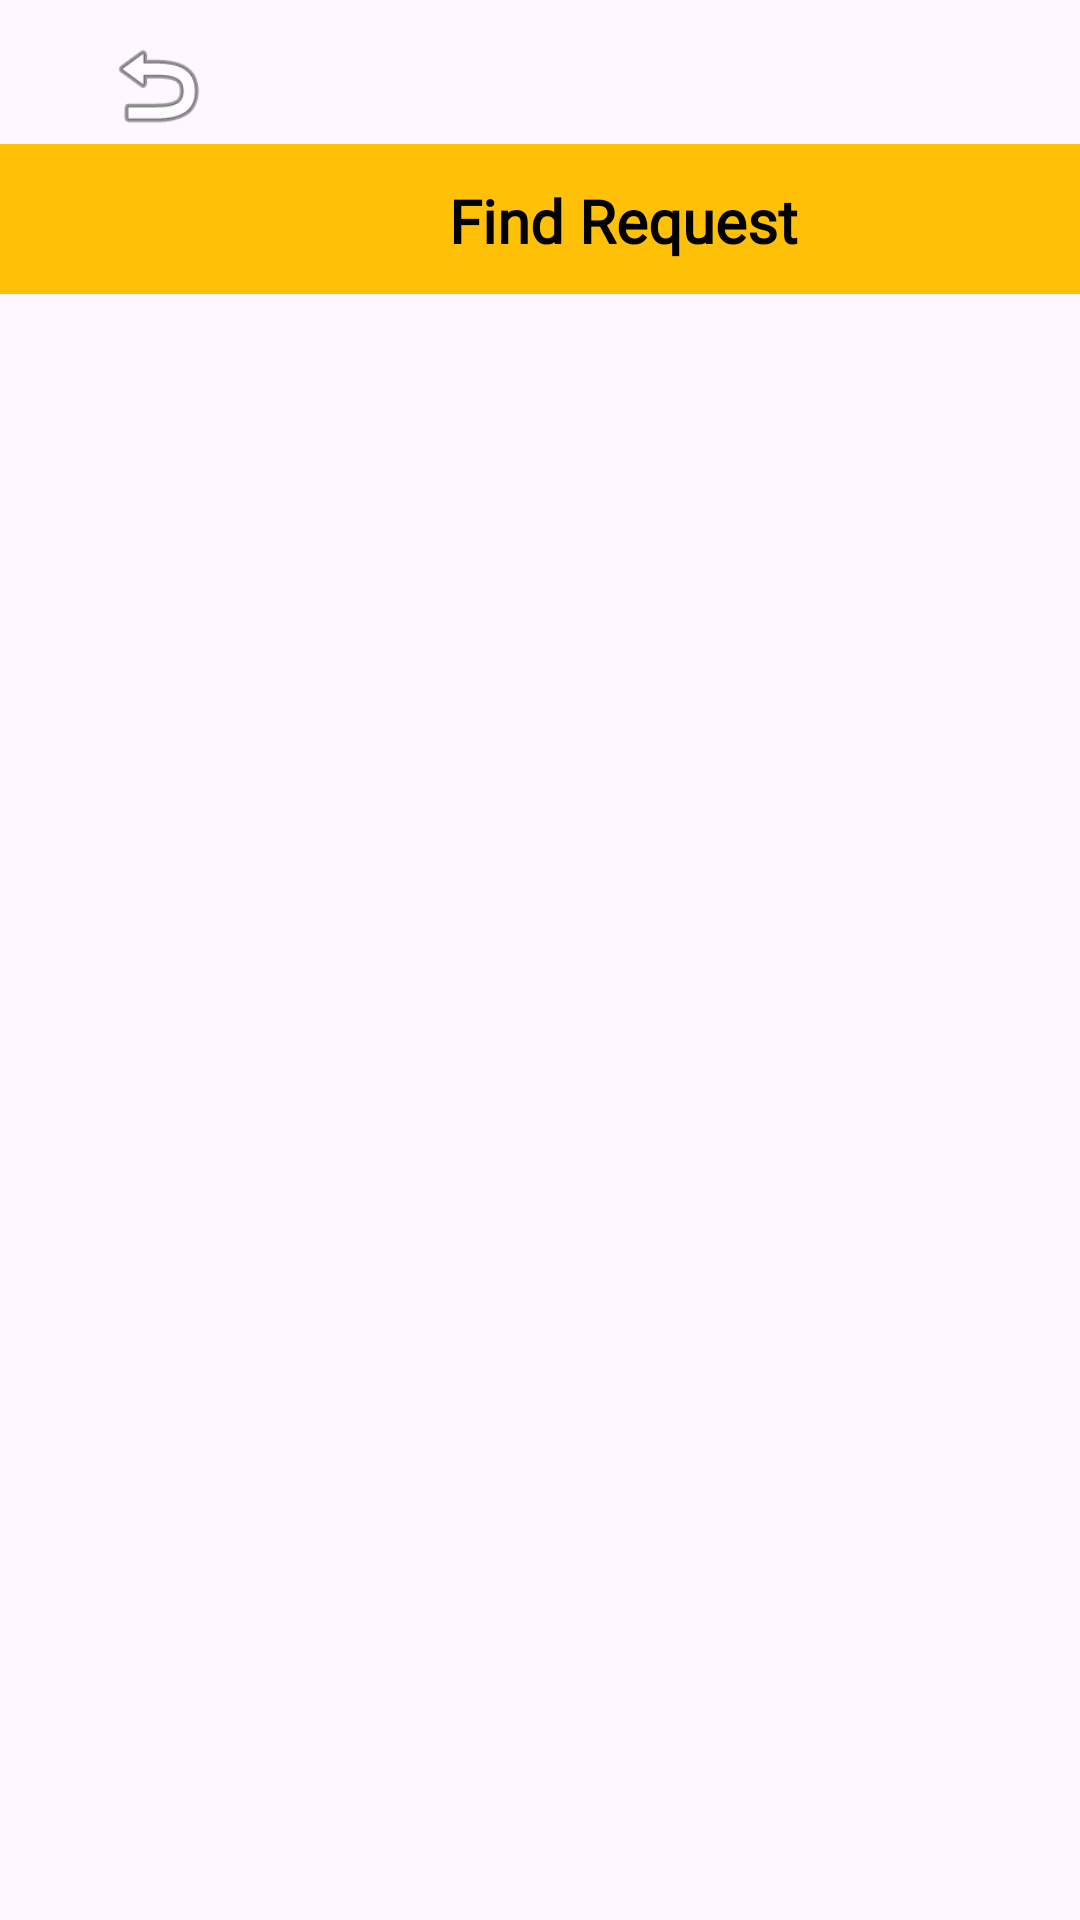

Icon bounding boxes for this 1080x1920 phone screenshot, format (x1, y1, x2, y2):
revert: (119, 50, 199, 123)
